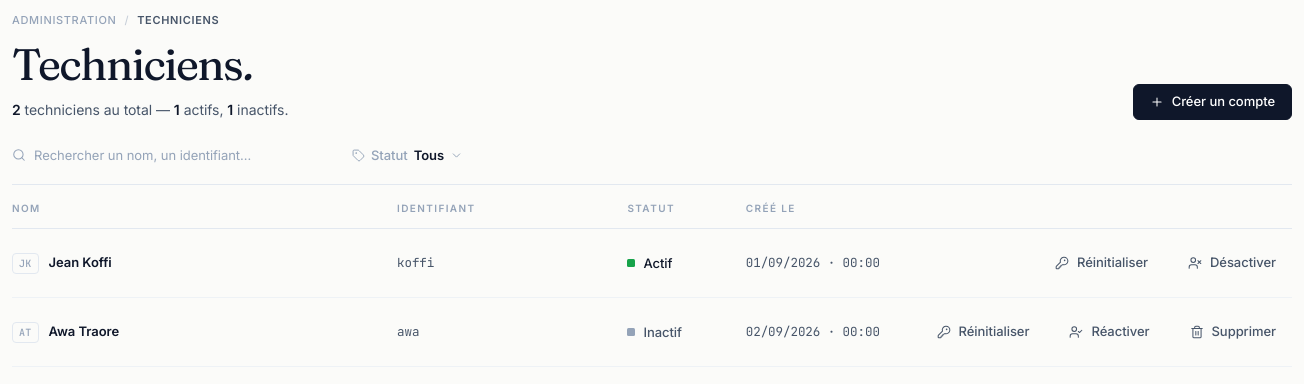
TechniciensListe › filtre par statut actif/inactif
Expected: the text "Jean Koffi" is shown, x1=48 y1=253 x2=112 y2=273
Click the dropdown named "Filtrer par statut": (408, 156) x1=352 y1=140 x2=463 y2=172
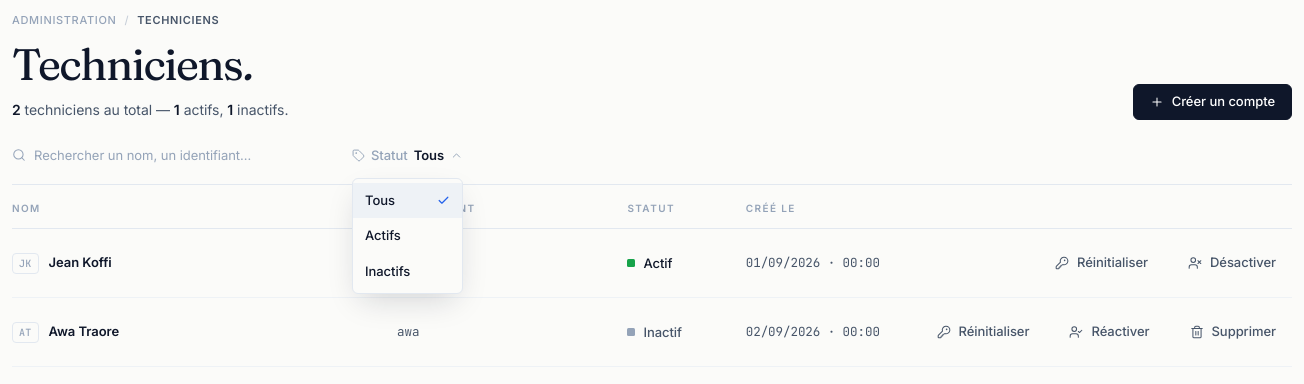
Click the option "Inactifs": (388, 271) x1=365 y1=263 x2=410 y2=279
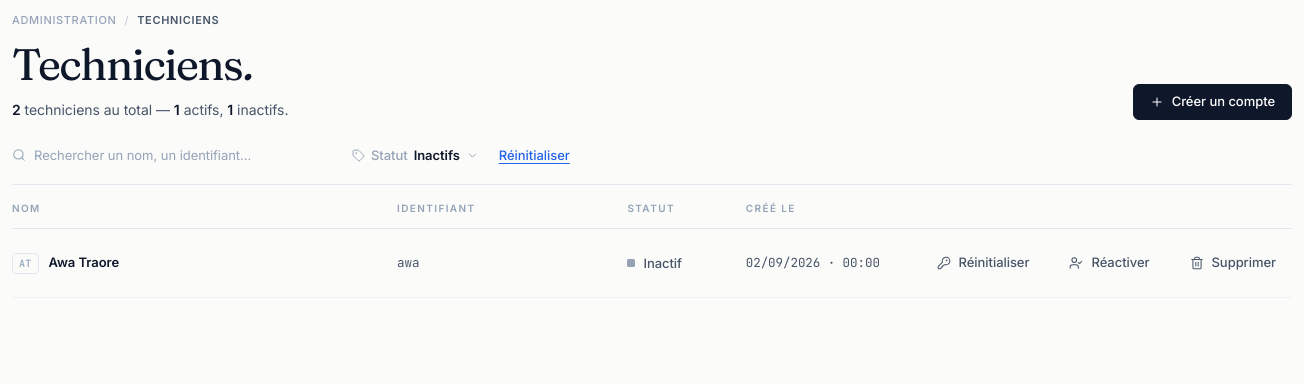
Expected: the text "Awa Traore" is shown, x1=48 y1=253 x2=119 y2=273
Expected: the text "Jean Koffi" is gone
